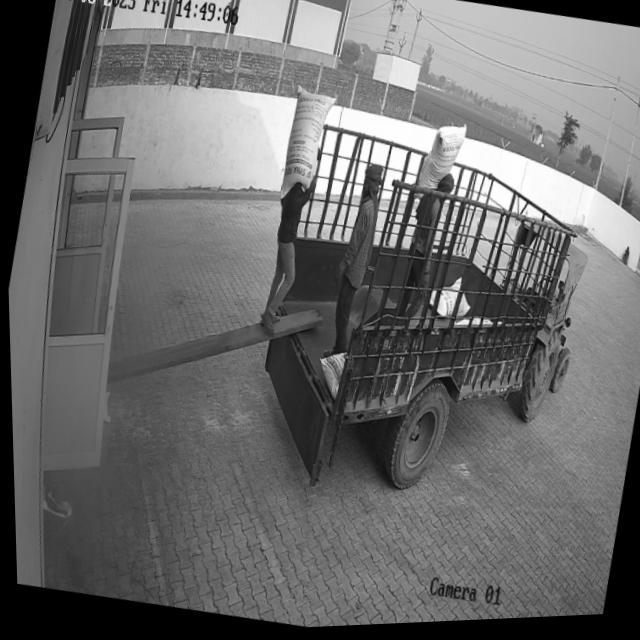sack: (275, 86, 339, 205), (410, 123, 467, 214)
